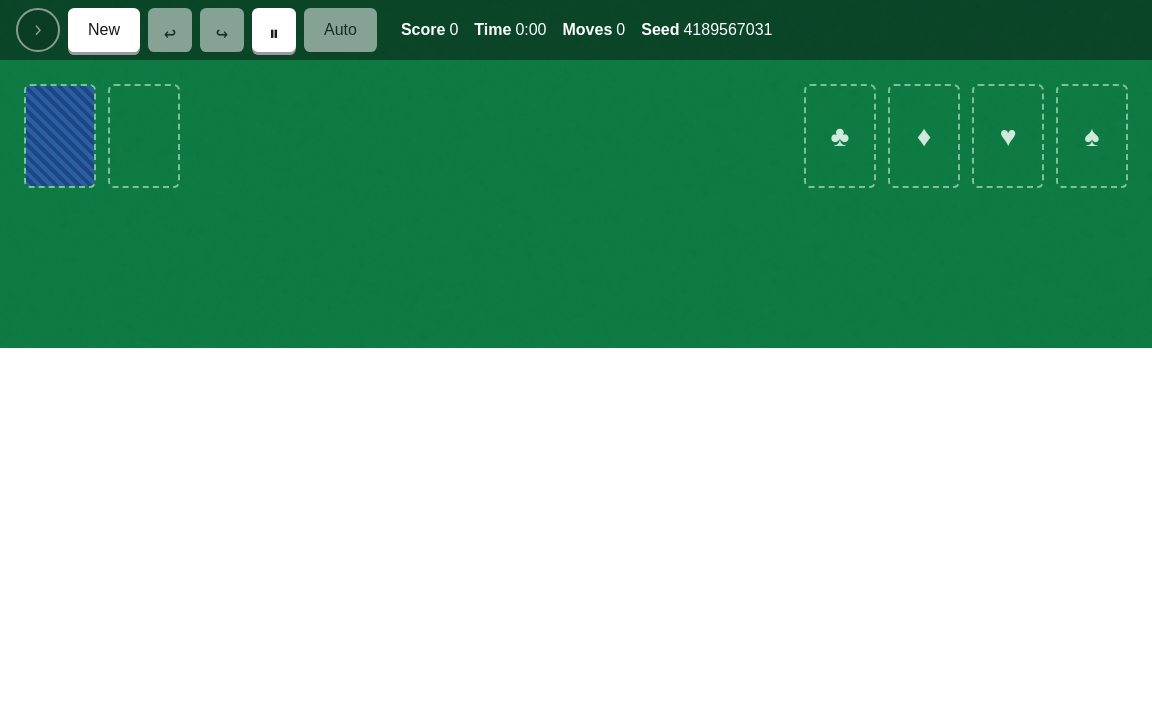
Test: GameView modal integration › opens Settings via the PC sidebar panel
What coordinates should you click on to do the following:
click the button named "サイドバーを開く"
I would click on:
 (38, 30)
Its box is [16,8,60,52].
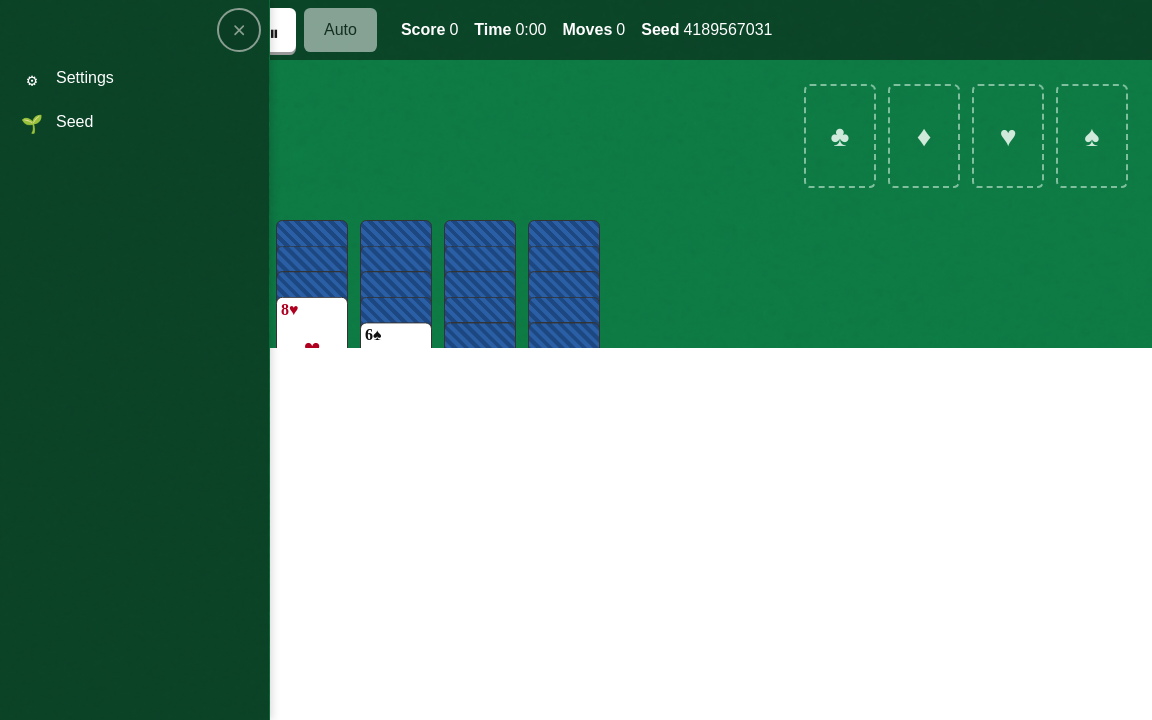
What coordinates should you click on to do the following:
click the button with aria-label "Settings"
I would click on:
 (85, 78)
Its box is [0,56,269,100].
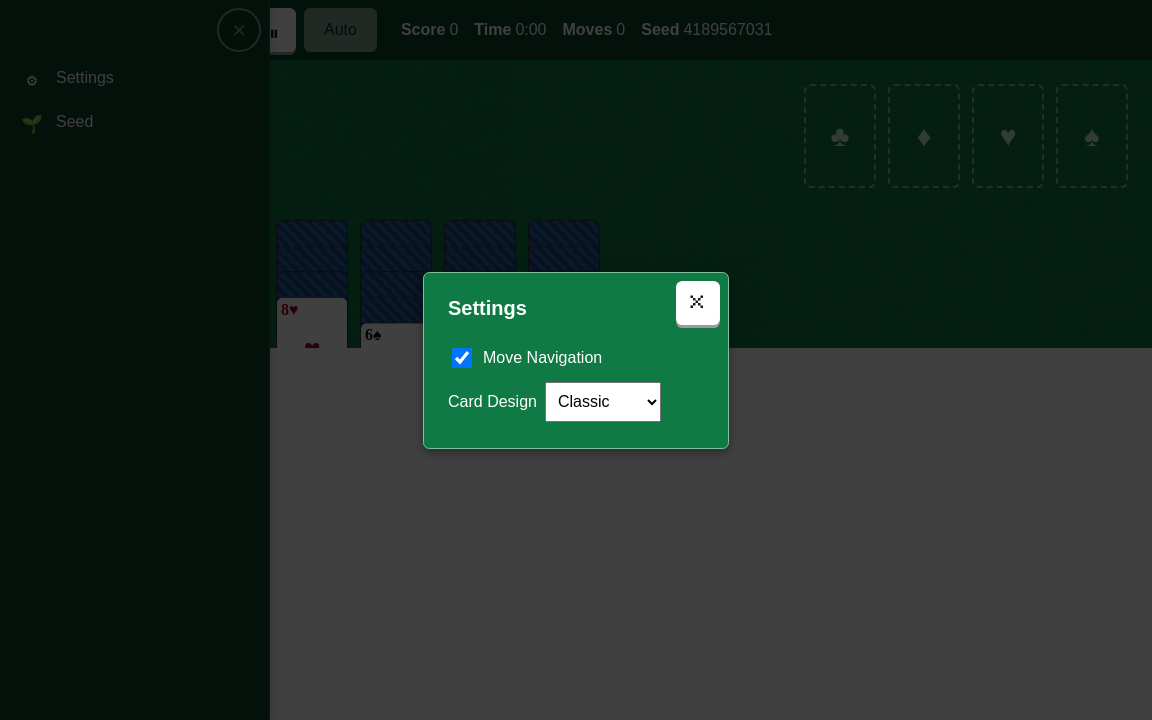
Check: the dialog named "Settings" is shown
